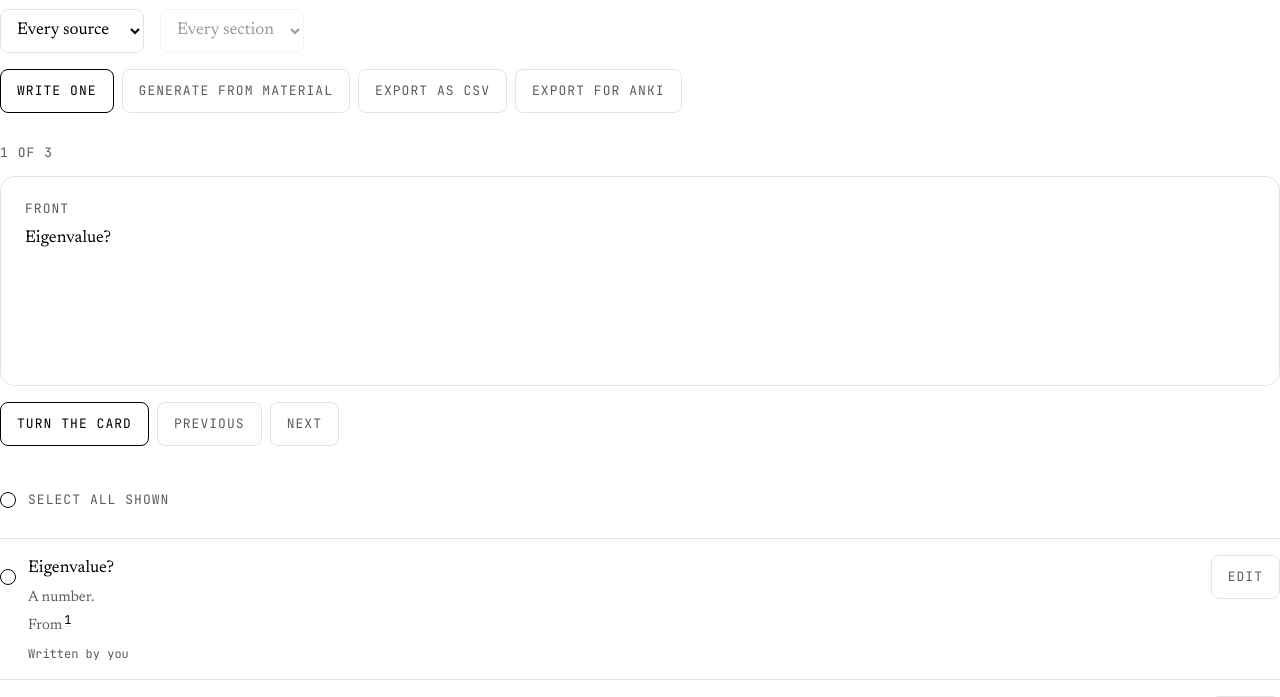
Test case: a selection outlives a filter change › keeps rows that the filter has taken off the screen
Click the checkbox named "Select this one" at (8, 577), box [0,569,16,585]
(page scrolled)
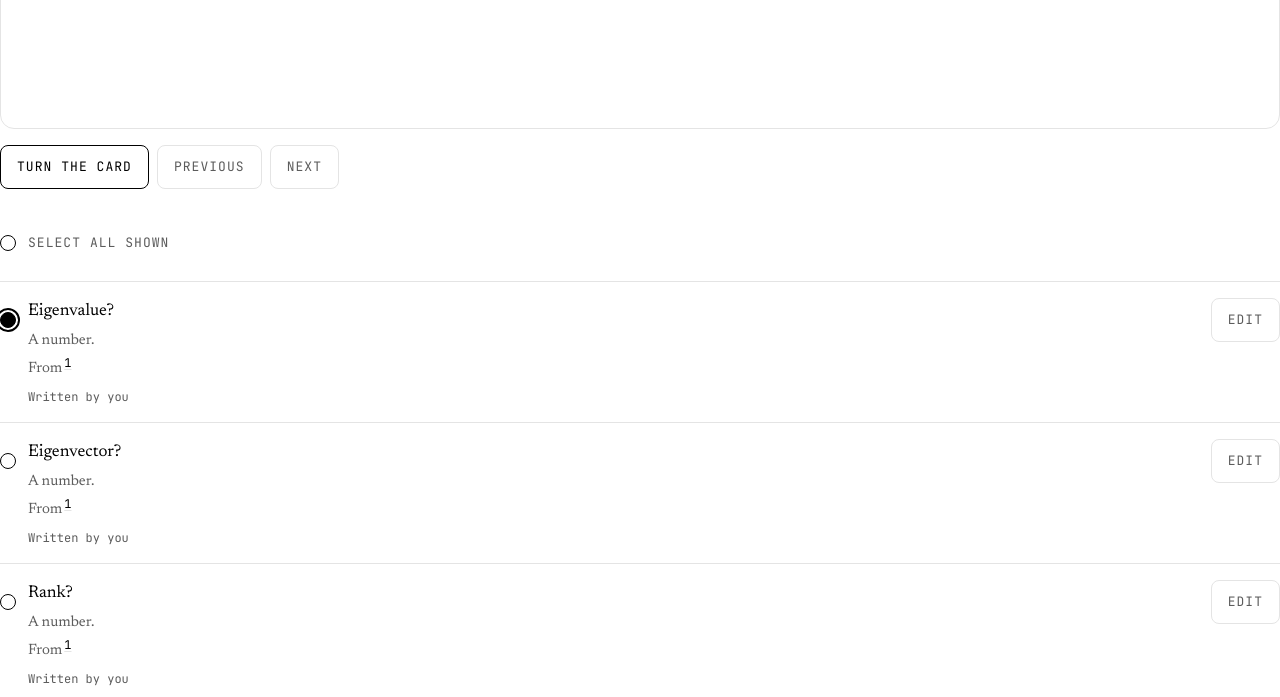
Click the checkbox named "Select this one" next to "Rank?" at (8, 602), box [0,594,16,610]
(page scrolled)
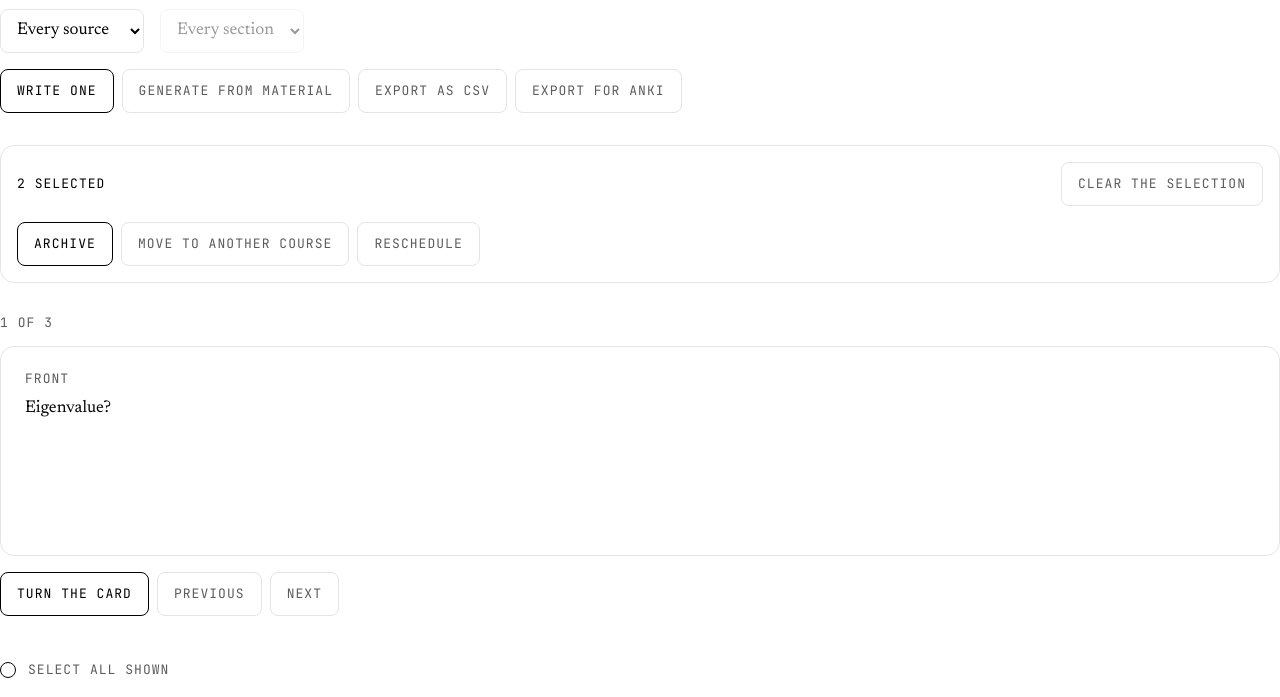
Check: the text "2 selected" is shown, box [17,176,105,191]
Select "Handout" in the dropdown labelled "Source" at (72, 31), box [0,9,144,53]
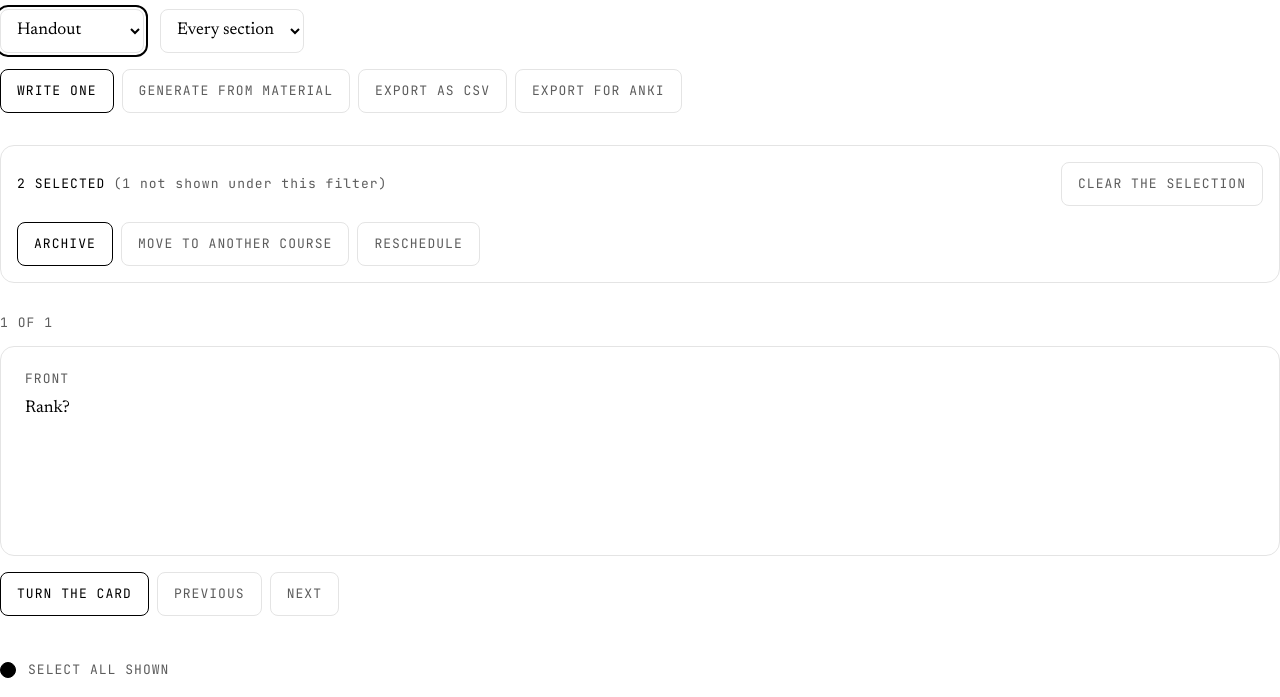
Check: the text "2 selected(1 not shown under this filter)" is shown, box [17,176,388,191]
Check: the text "Eigenvalue?" is gone
